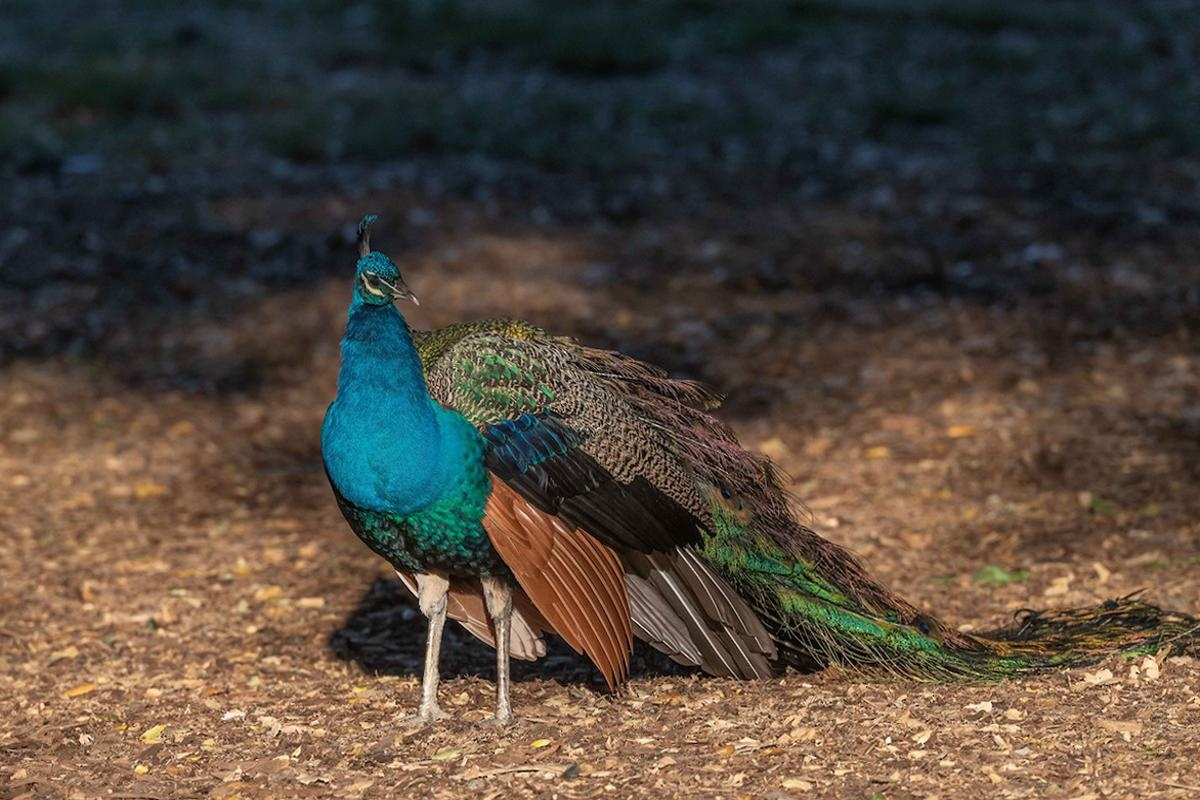peacock: (275, 201, 1034, 711)
